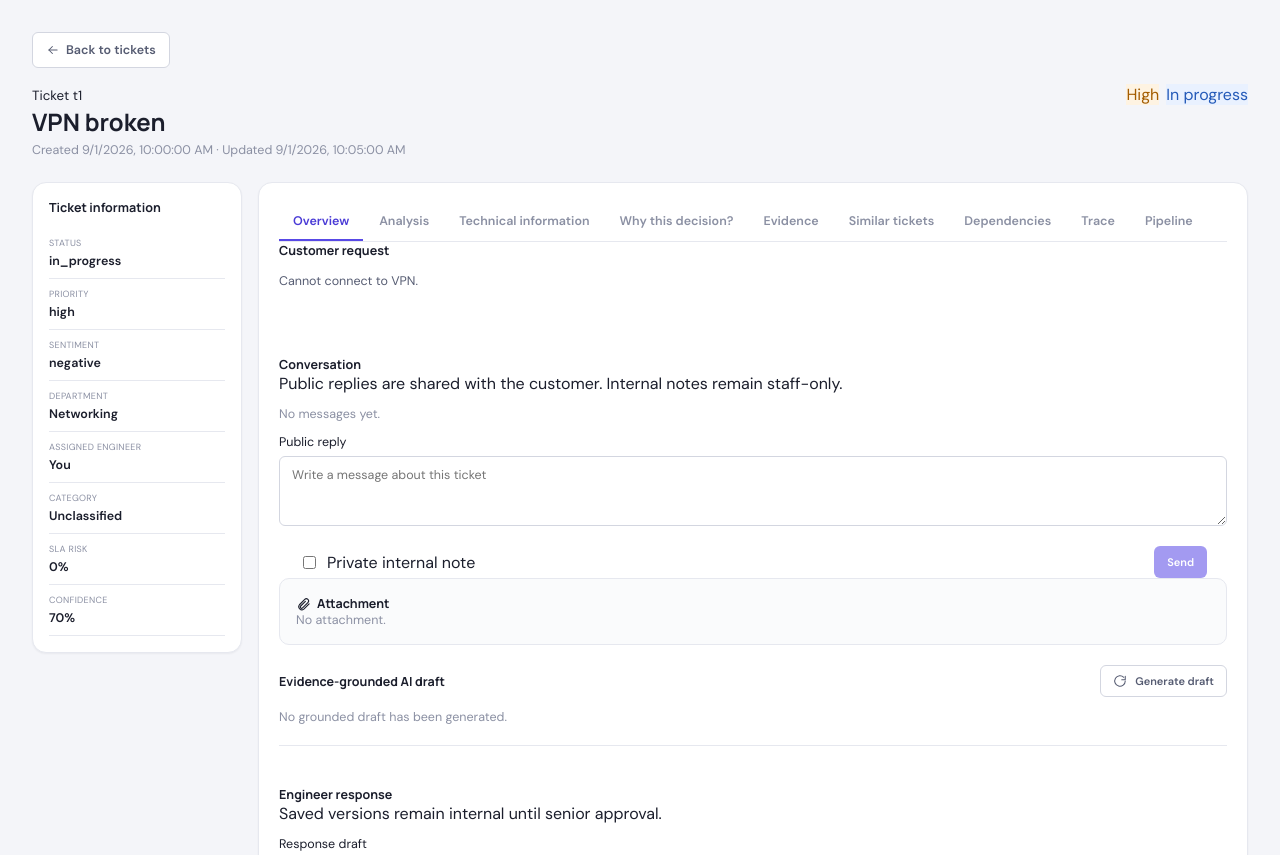
engineer response workflow › renders the persisted pipeline empty and failed states
Click the tab "Pipeline".
click(1169, 222)  # box [1131,203,1207,241]
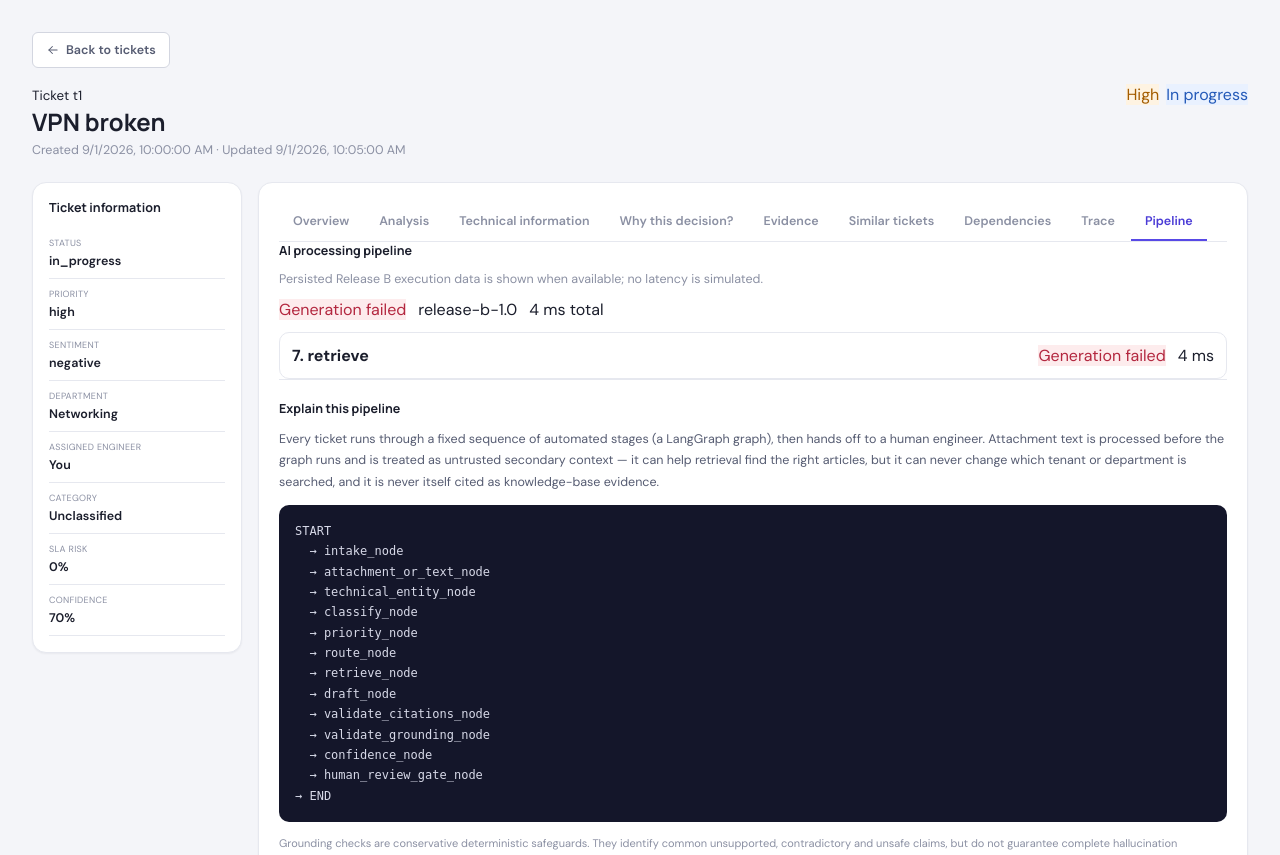
Check: the text "Generation failed" next to "release-b-1.0" is shown, box [279,299,406,320]
